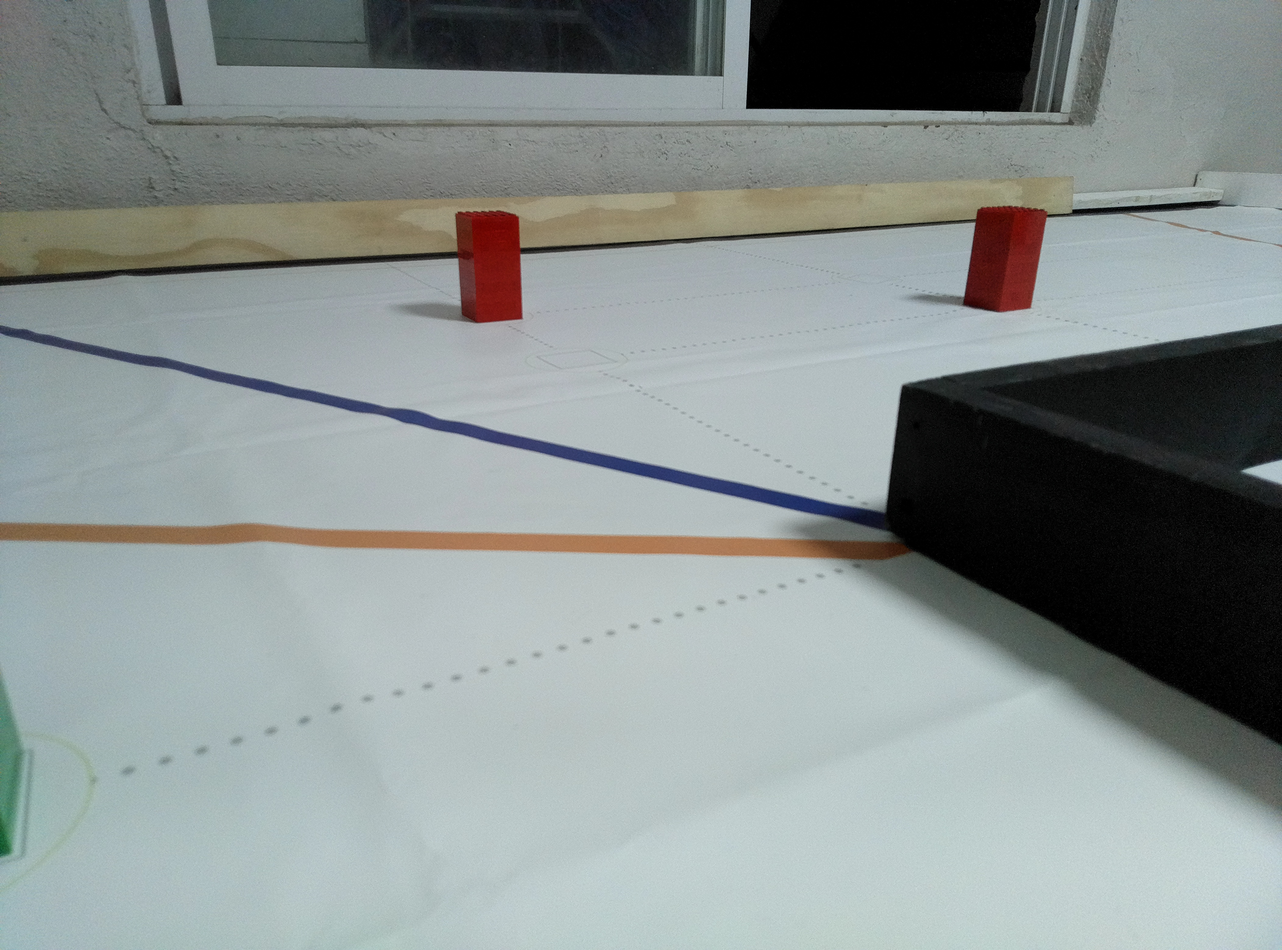greenbox: (0, 679, 25, 860)
redbox: (961, 202, 1048, 313), (454, 210, 524, 324)
